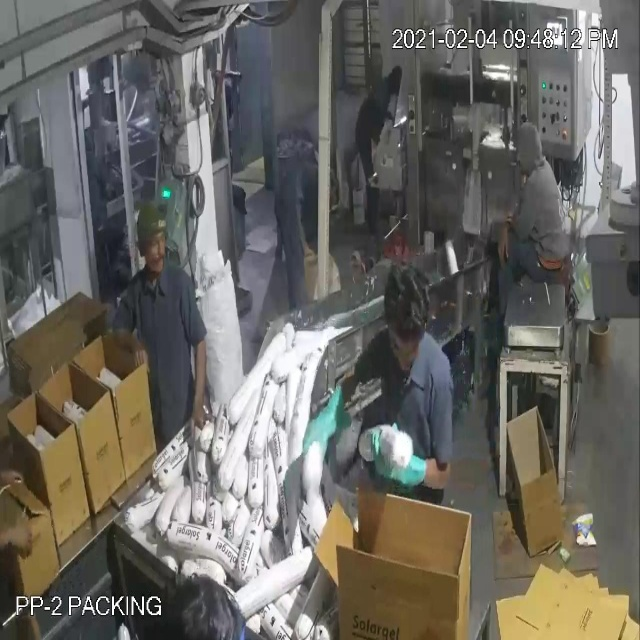Guantes: (284, 364, 356, 476), (355, 412, 426, 500)
Sin_guantes: (171, 325, 219, 444), (101, 306, 157, 376), (491, 201, 525, 282)
